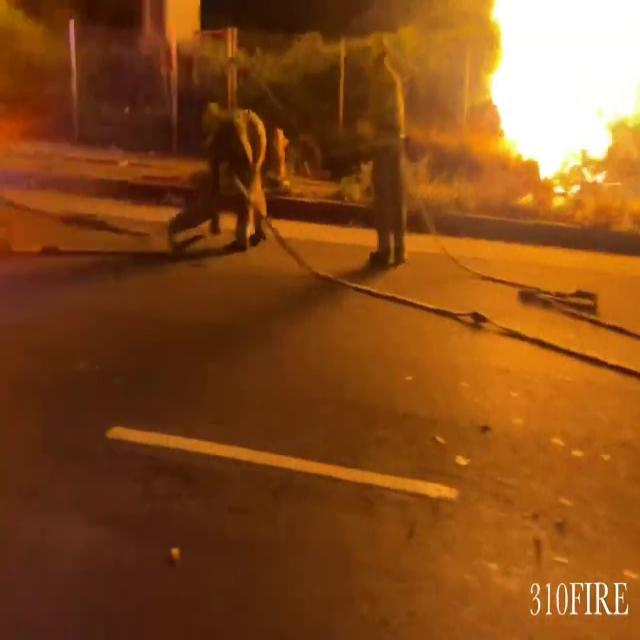Fire: (462, 0, 640, 202)
